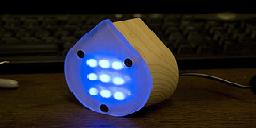LED: (80, 53, 130, 103)
